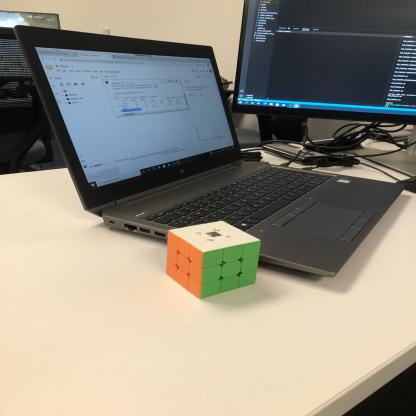SolvedCube: (162, 215, 264, 303)
